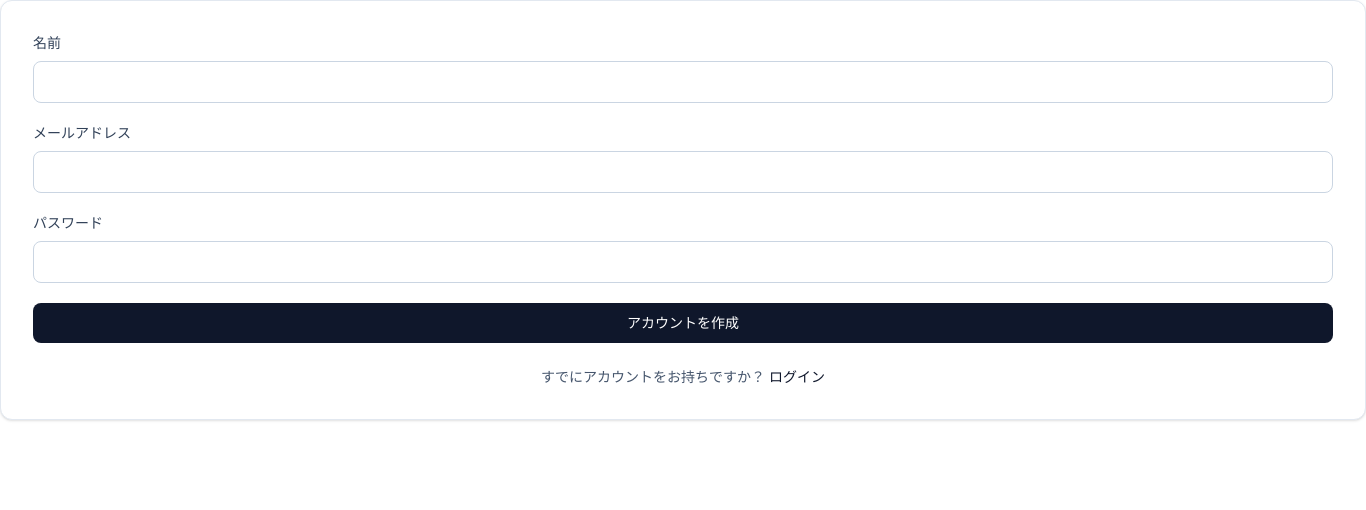
Test case: RegisterForm › 未入力で送信すると必須エラーを表示する
Step 1. Click the button "アカウントを作成" → (683, 323), box [33,303,1333,343]
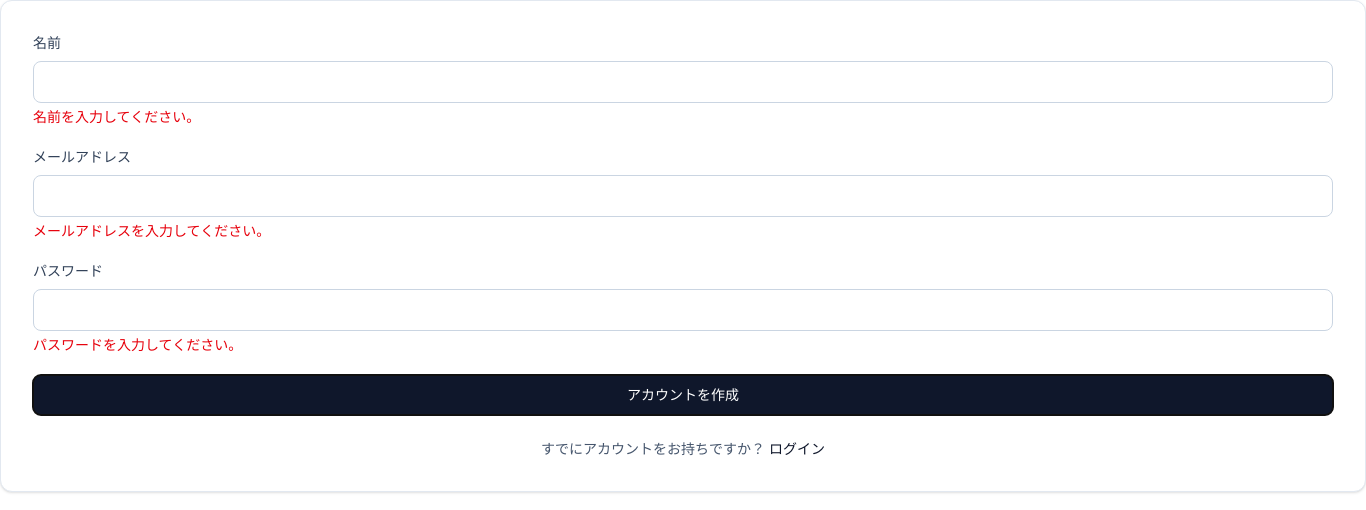
expect the text "名前を入力してください。" is shown: met, box [33,109,200,125]
expect the text "メールアドレスを入力してください。" is shown: met, box [33,223,270,239]
expect the text "パスワードを入力してください。" is shown: met, box [33,337,242,353]
